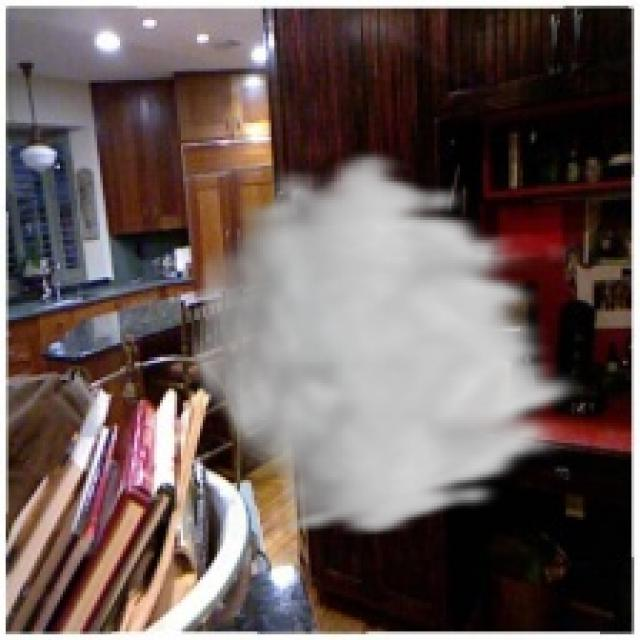smoke: (183, 146, 591, 540)
